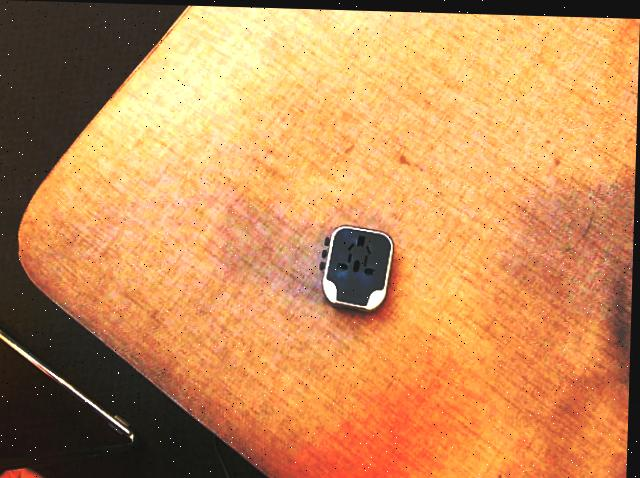adapter: (319, 222, 395, 311)
